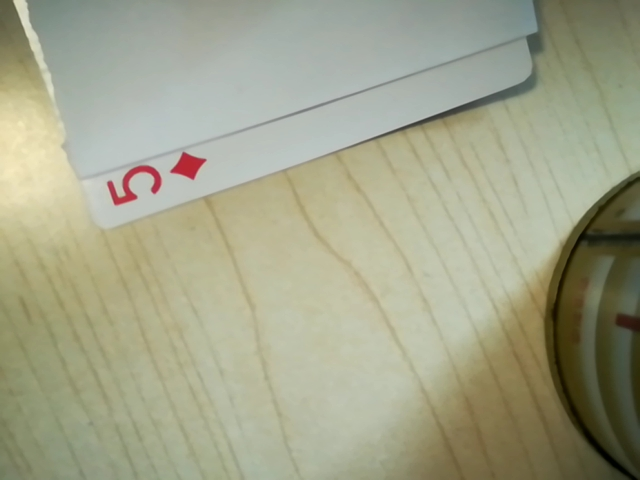fk 5: (93, 145, 208, 214)
